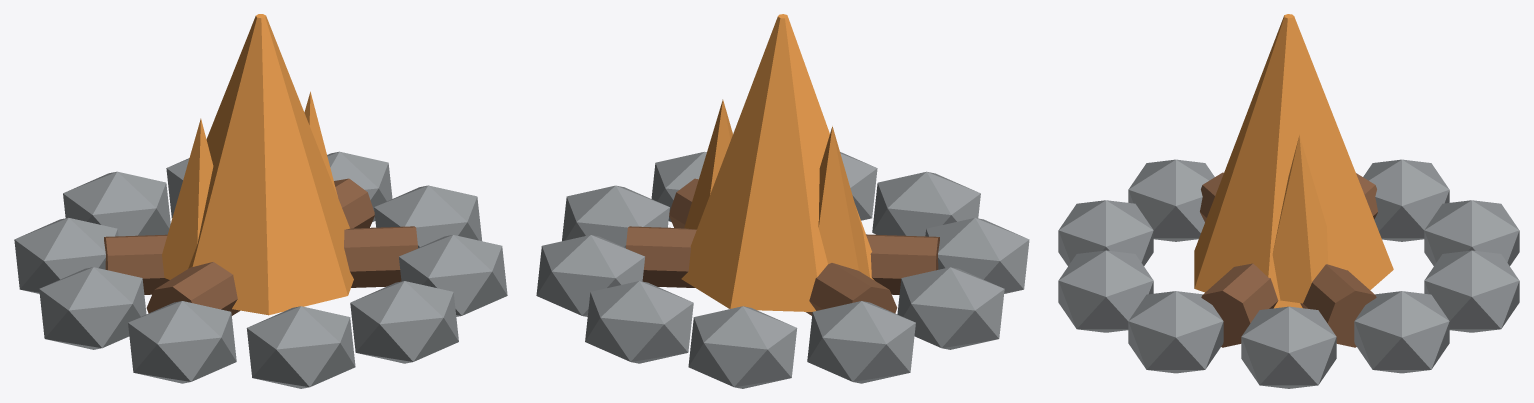
Rendered from campfire.glb.
3 renders of one model, left to right at view 1: azimuth 30°, elevation 25°; view 2: azimuth 150°, elevation 25°; view 3: azimuth 270°, elevation 25°, orthographic.
Visible parts, largest first — view 1: flame, hearth_stone.007, hearth_stone.008, hearth_stone.006, hearth_stone.005, log.001, hearth_stone.009, hearth_stone.003, hearth_stone.004, hearth_stone, log, flame_tip (+3 smaller); view 2: flame, hearth_stone.002, hearth_stone.003, hearth_stone.004, hearth_stone.005, log, hearth_stone.001, hearth_stone.007, hearth_stone.006, hearth_stone, flame_tip, log.001 (+3 smaller); view 3: flame, hearth_stone, hearth_stone.001, hearth_stone.009, hearth_stone.002, hearth_stone.008, flame_tip.001, hearth_stone.006, hearth_stone.004, hearth_stone.003, hearth_stone.007, log.001 (+1 smaller).
Boxes of the visible parts, left/top/right/bottom form: flame: left=188, top=14, right=353, bottom=315; hearth_stone.007: left=246, top=306, right=355, bottom=388; hearth_stone.008: left=350, top=281, right=458, bottom=363; hearth_stone.006: left=128, top=301, right=236, bottom=383; hearth_stone.005: left=39, top=267, right=146, bottom=349; log.001: left=104, top=226, right=417, bottom=294; hearth_stone.009: left=399, top=235, right=507, bottom=316; hearth_stone.003: left=63, top=171, right=170, bottom=236; hearth_stone.004: left=14, top=217, right=118, bottom=293; hearth_stone: left=374, top=185, right=481, bottom=247; log: left=146, top=178, right=374, bottom=315; flame_tip: left=162, top=118, right=213, bottom=279; flame: left=681, top=14, right=874, bottom=311; hearth_stone.002: left=585, top=281, right=693, bottom=363; hearth_stone.003: left=688, top=306, right=797, bottom=388; hearth_stone.004: left=807, top=301, right=915, bottom=383; hearth_stone.005: left=897, top=267, right=1004, bottom=349; log: left=626, top=226, right=939, bottom=294; hearth_stone.001: left=536, top=235, right=644, bottom=316; hearth_stone.007: left=872, top=171, right=980, bottom=236; hearth_stone.006: left=925, top=218, right=1029, bottom=293; hearth_stone: left=562, top=185, right=669, bottom=247; flame_tip: left=818, top=126, right=869, bottom=277; log.001: left=669, top=178, right=897, bottom=315; flame: left=1194, top=14, right=1393, bottom=308; hearth_stone: left=1241, top=306, right=1336, bottom=388; hearth_stone.001: left=1354, top=291, right=1449, bottom=373; hearth_stone.009: left=1128, top=291, right=1223, bottom=373; hearth_stone.002: left=1424, top=250, right=1519, bottom=332; hearth_stone.008: left=1058, top=250, right=1153, bottom=332; flame_tip.001: left=1272, top=135, right=1328, bottom=303; hearth_stone.006: left=1128, top=159, right=1214, bottom=241; hearth_stone.004: left=1363, top=159, right=1449, bottom=241; hearth_stone.003: left=1424, top=200, right=1519, bottom=265; hearth_stone.007: left=1058, top=200, right=1153, bottom=265; log.001: left=1201, top=173, right=1377, bottom=347.
Size of the model in its own units: 1.42 by 0.92 by 1.32.
